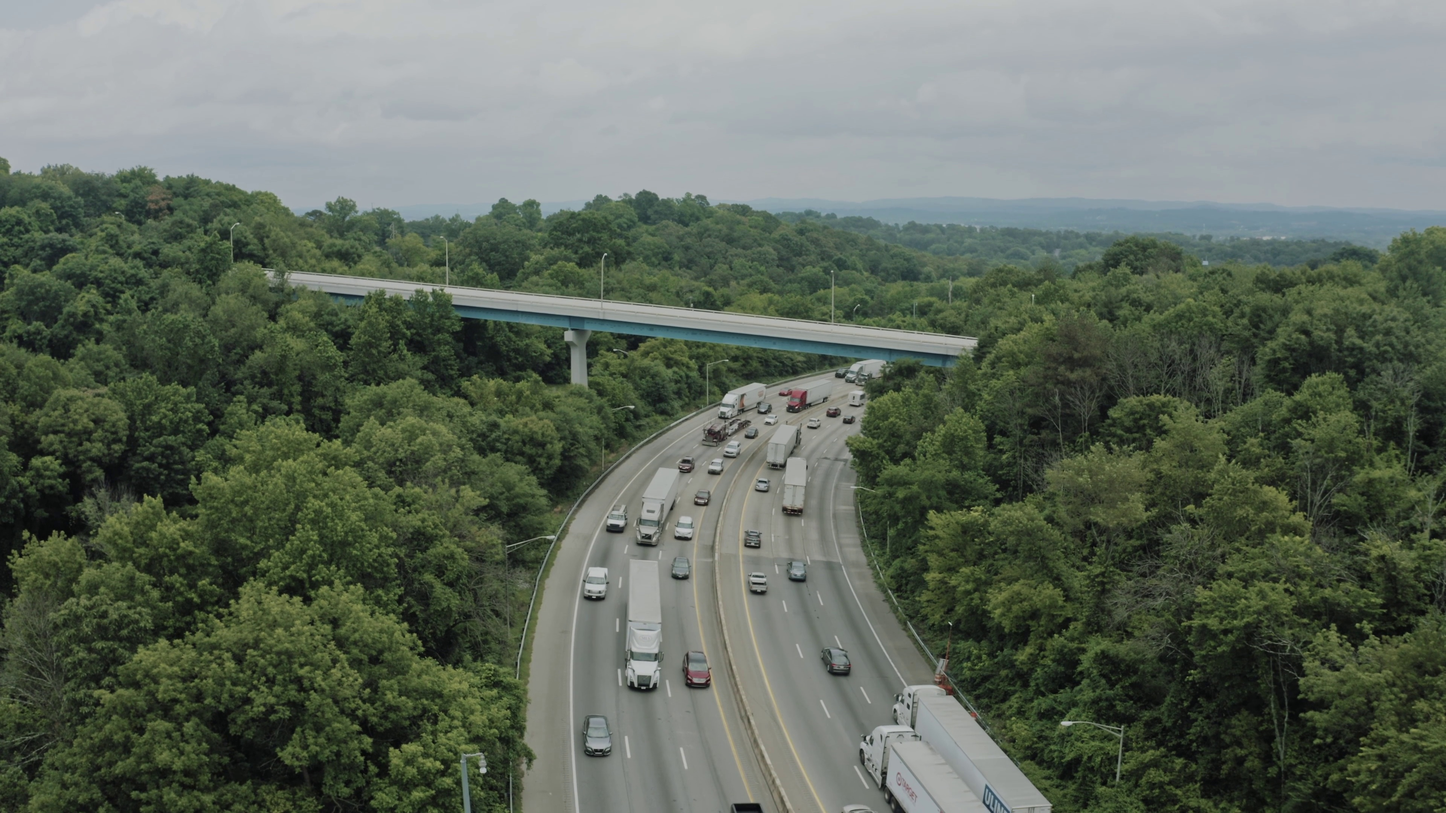Vehicle: (859, 724, 921, 790), (624, 627, 664, 691), (891, 685, 947, 729), (634, 499, 668, 546), (582, 715, 613, 757), (682, 651, 711, 688), (583, 564, 609, 600), (821, 647, 851, 675), (706, 418, 751, 434), (717, 392, 743, 419), (702, 422, 729, 447), (606, 504, 627, 533), (787, 420, 806, 450), (786, 389, 807, 413), (674, 516, 694, 540), (748, 572, 768, 594), (845, 363, 864, 383), (841, 804, 879, 813), (744, 529, 762, 548), (730, 803, 764, 813), (723, 440, 741, 458), (847, 390, 866, 407), (694, 489, 711, 506), (678, 456, 695, 473), (708, 458, 724, 475), (755, 478, 771, 492), (788, 572, 807, 582), (855, 373, 869, 386), (757, 402, 772, 414), (826, 406, 841, 418), (764, 414, 778, 425), (807, 418, 821, 429), (835, 368, 850, 378), (671, 572, 689, 579), (778, 387, 792, 396), (843, 415, 856, 424), (744, 427, 759, 434)
